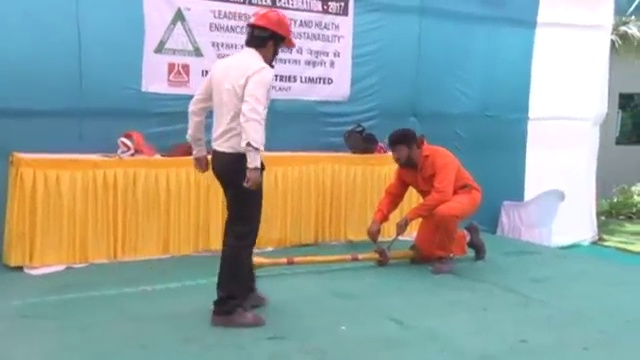helmet: (248, 7, 296, 50)
helmet_off: (387, 128, 422, 170)
helmet_on: (246, 7, 297, 69)
person: (183, 6, 299, 329), (363, 127, 487, 274)
